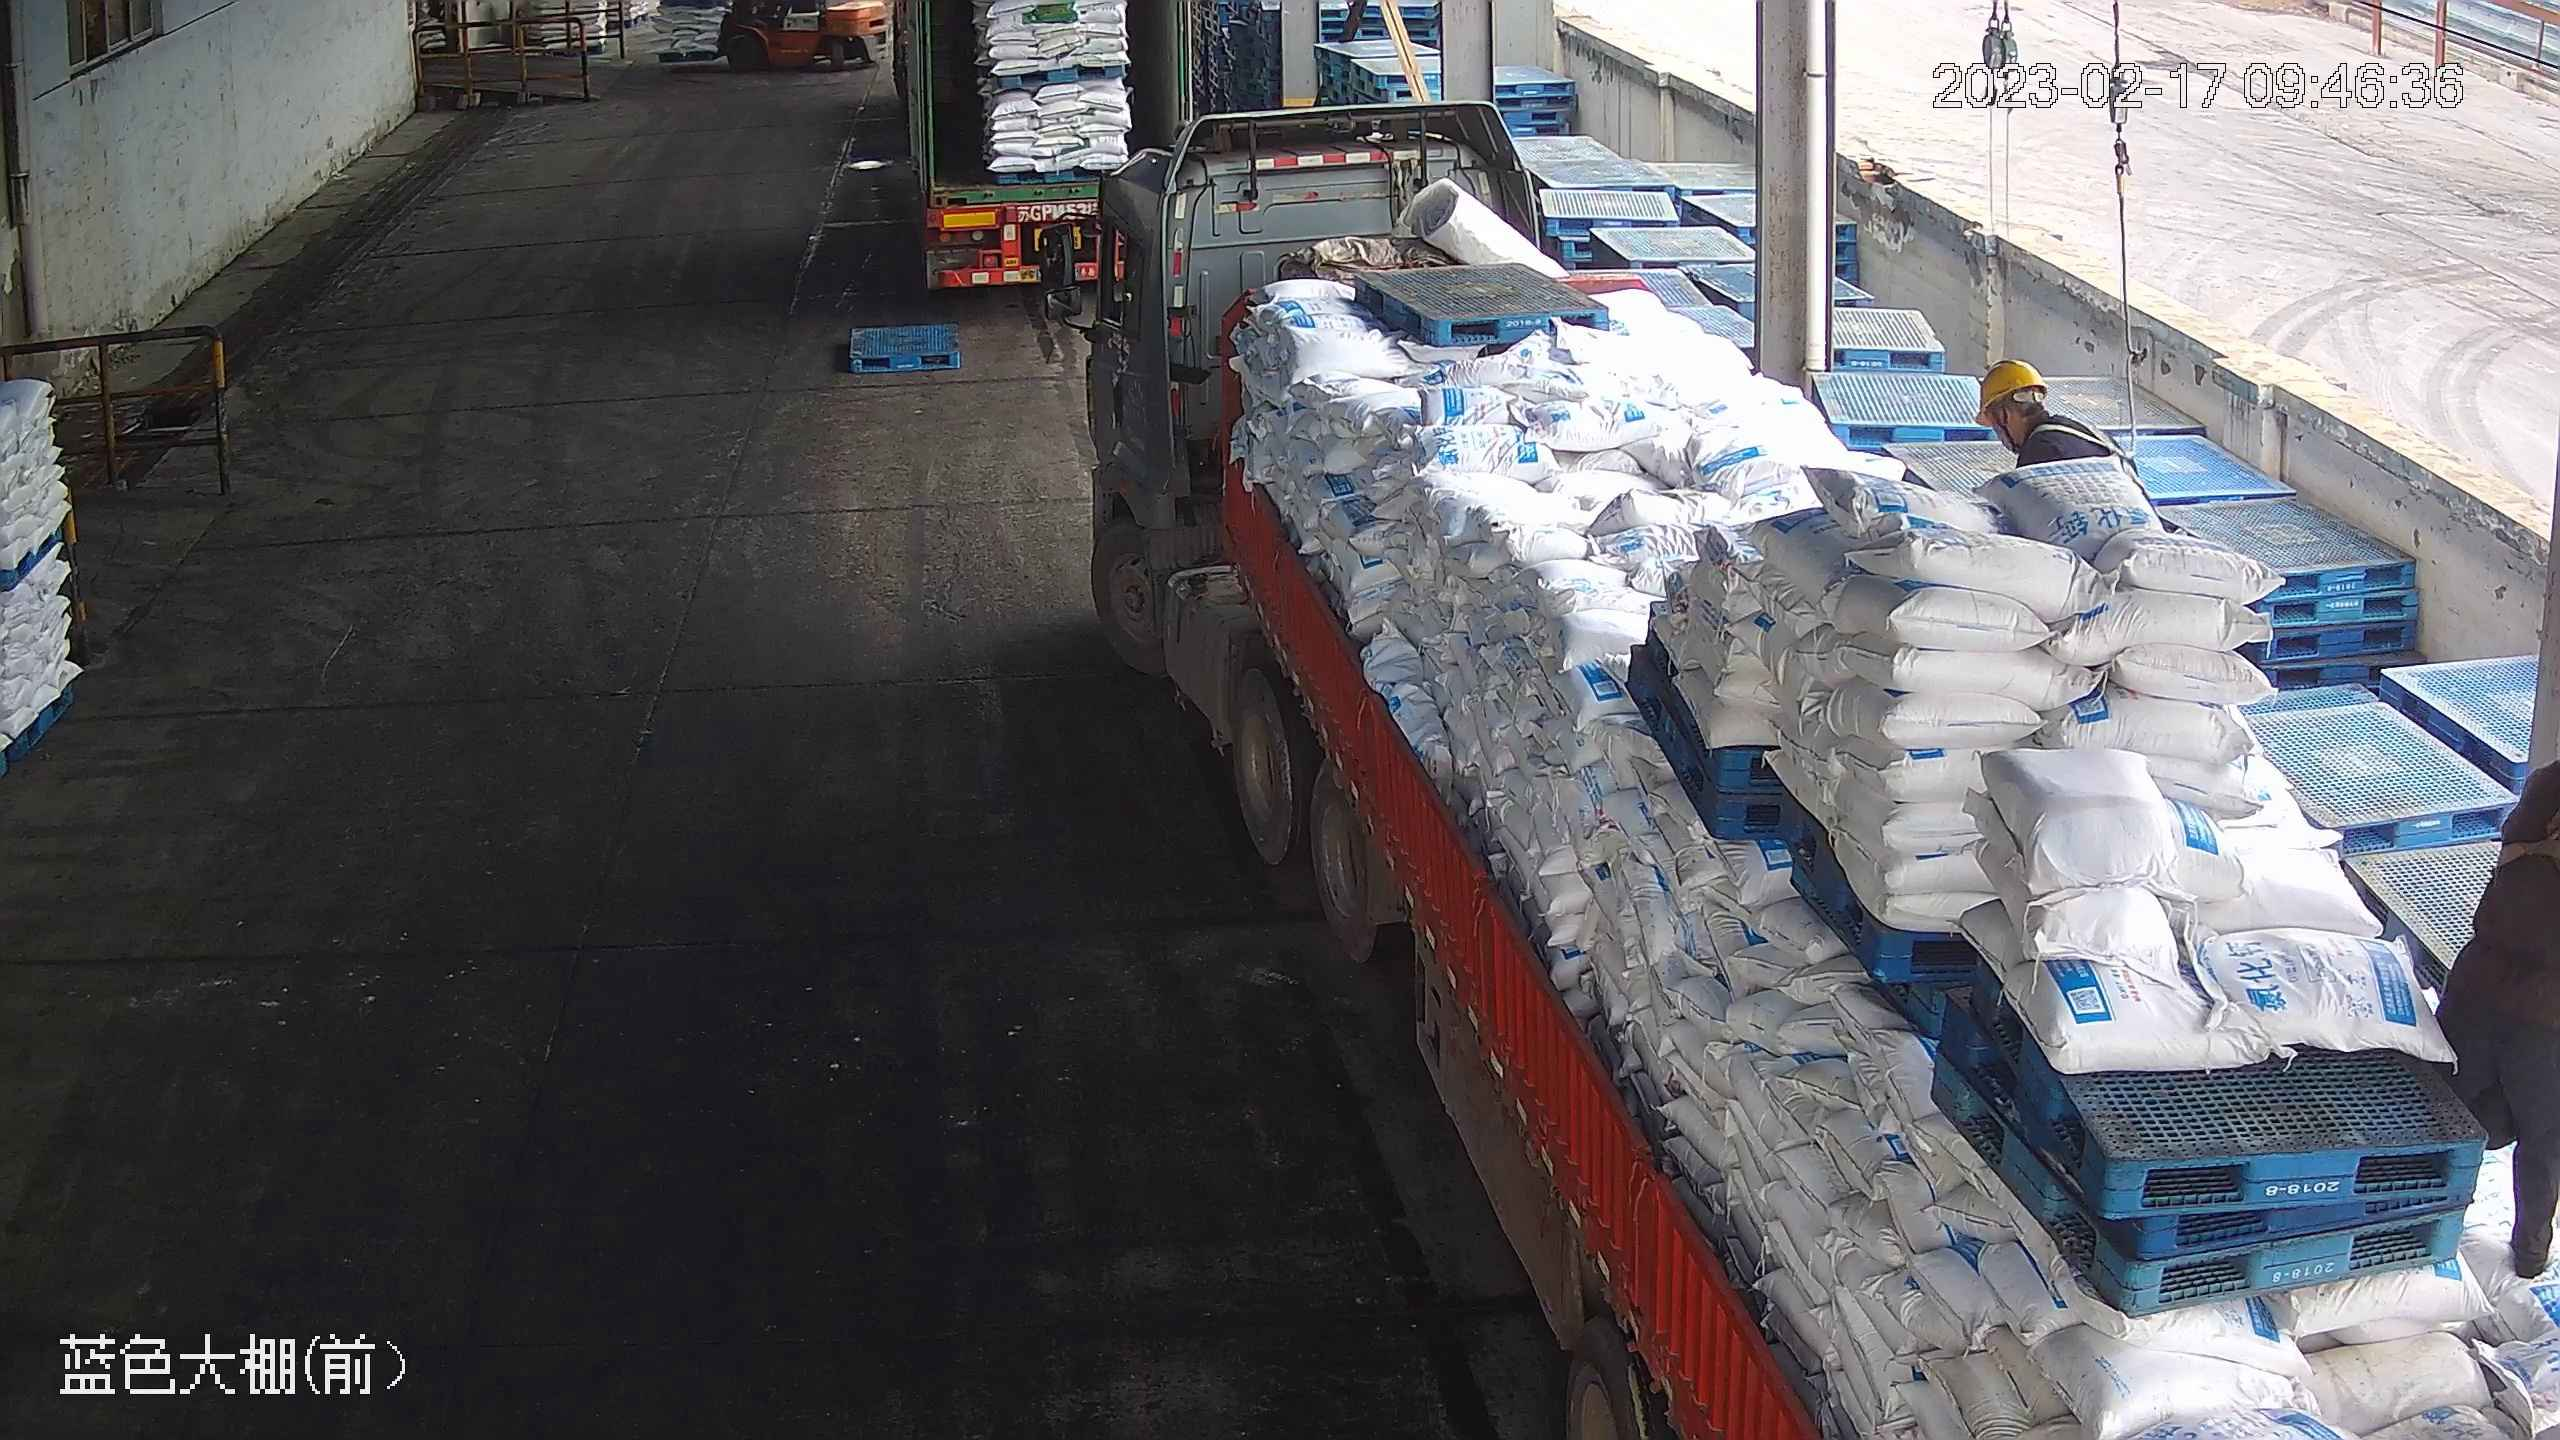belt: (2498, 819, 2560, 877)
head: (1976, 358, 2105, 469)
helmet: (1973, 357, 2047, 414)
truck: (1061, 153, 2555, 1439), (879, 4, 1214, 314)
